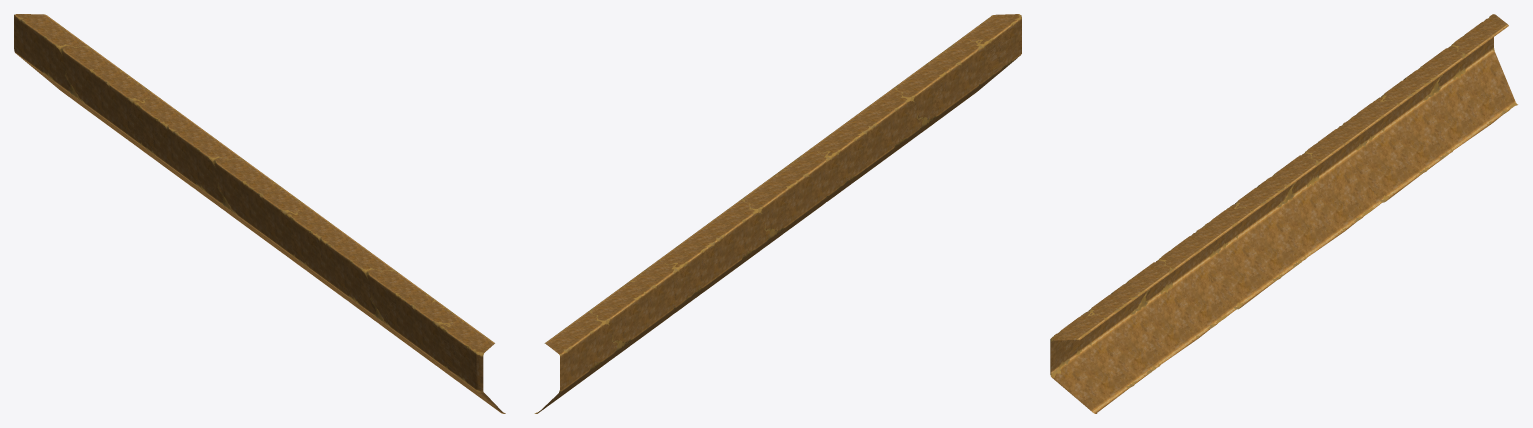
3 renders of one model, left to right at view 1: azimuth 30°, elevation 25°; view 2: azimuth 150°, elevation 25°; view 3: azimuth 330°, elevation 25°, orthographic. The views are drawn at different scales.
Parts seen in each view (by area): view 1: SM_Nightmare_Crucible_Arena_BorderB_01v1_LOD0; view 2: SM_Nightmare_Crucible_Arena_BorderB_01v1_LOD0; view 3: SM_Nightmare_Crucible_Arena_BorderB_01v1_LOD0.
Boxes of the visible parts, <box> form: SM_Nightmare_Crucible_Arena_BorderB_01v1_LOD0: <box>14,14,505,413</box>; SM_Nightmare_Crucible_Arena_BorderB_01v1_LOD0: <box>534,14,1021,413</box>; SM_Nightmare_Crucible_Arena_BorderB_01v1_LOD0: <box>1050,14,1517,413</box>.
Size of the model in its own units: 6.87 by 12.76 by 140.
Materials: 2 (2 with a texture image).
